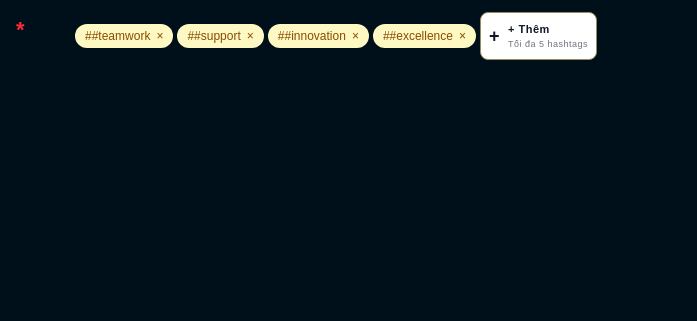
Scenario: KudosHashtagField › unselected items enabled when below max, disabled when dropdown opens at 5 via chip removal
Step 1. Click the button with test id "hashtag-add-btn" → (539, 36), box [480,12,597,60]
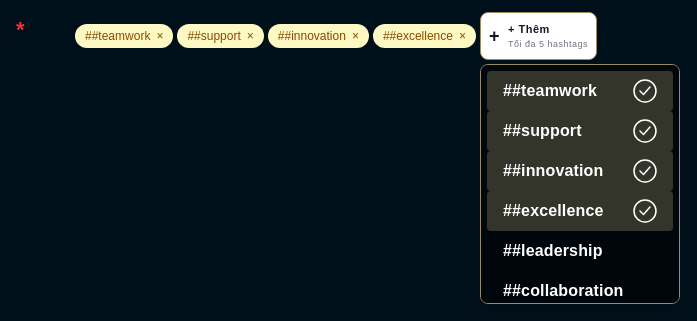
Expected: the button with test id "hashtag-option" is enabled, [487,231,673,271]
